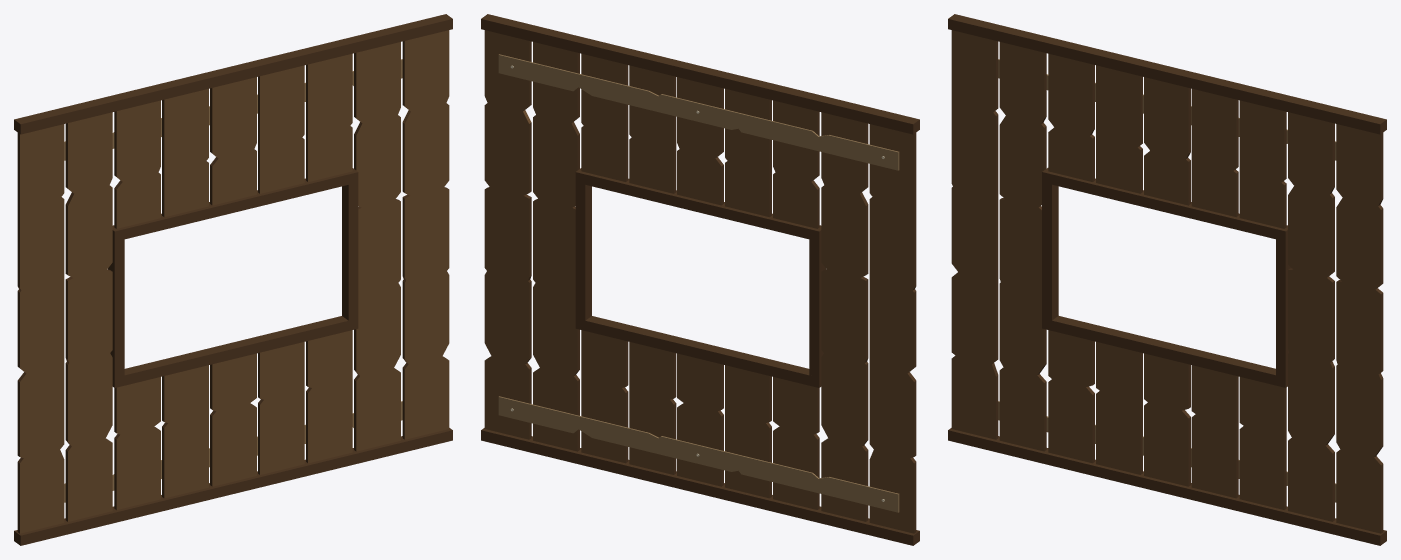
Rendered from wall_window.glb.
3 renders of one model, left to right at view 1: azimuth 30°, elevation 25°; view 2: azimuth 150°, elevation 25°; view 3: azimuth 330°, elevation 25°, orthographic.
Visible parts, largest first — view 1: Cube; view 2: Cube; view 3: Cube.
Boxes of the visible parts, x1,y1,x2,y2 form: Cube: (14, 14, 452, 545); Cube: (481, 14, 919, 545); Cube: (948, 14, 1386, 545).
Bounding box in the file's own units: 2.69 × 2.51 × 0.0719.
Materials: 1 (1 with a texture image).
